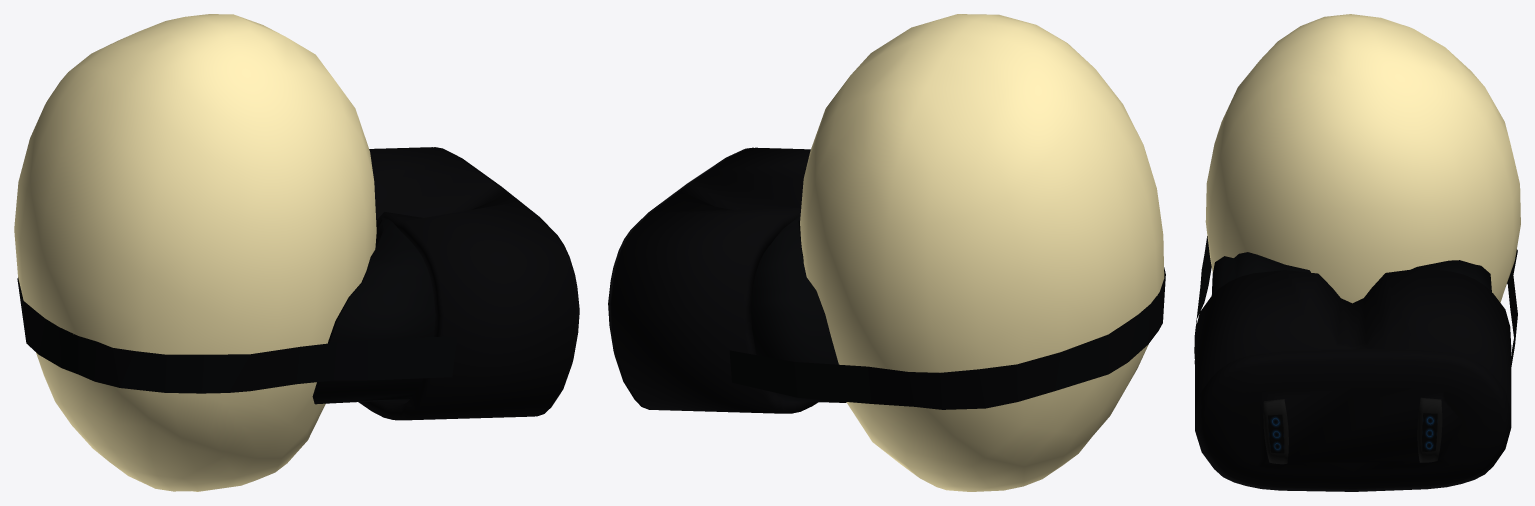
Rendered from vr-headset.obj.
3 renders of one model, left to right at view 1: azimuth 30°, elevation 25°; view 2: azimuth 150°, elevation 25°; view 3: azimuth 270°, elevation 25°, orthographic. The views are drawn at different scales.
Parts seen in each view (by area): view 1: egg, vr_base, strap, vr_blinders; view 2: egg, vr_base, strap, vr_blinders; view 3: egg, vr_base, vr_blinders, strap.
Boxes of the visible parts, <box> form: egg: <box>14,14,376,491</box>; vr_base: <box>358,147,579,420</box>; strap: <box>17,277,457,393</box>; vr_blinders: <box>312,217,435,404</box>; egg: <box>800,14,1164,491</box>; vr_base: <box>608,147,818,413</box>; strap: <box>729,267,1165,409</box>; vr_blinders: <box>750,215,846,402</box>; egg: <box>1205,14,1520,303</box>; vr_base: <box>1195,268,1511,491</box>; vr_blinders: <box>1211,252,1491,295</box>; strap: <box>1194,236,1517,366</box>.
Bounding box in the file's own units: 0.2484 × 0.2327 × 0.1763.
Materials: 6 (1 with a texture image).
